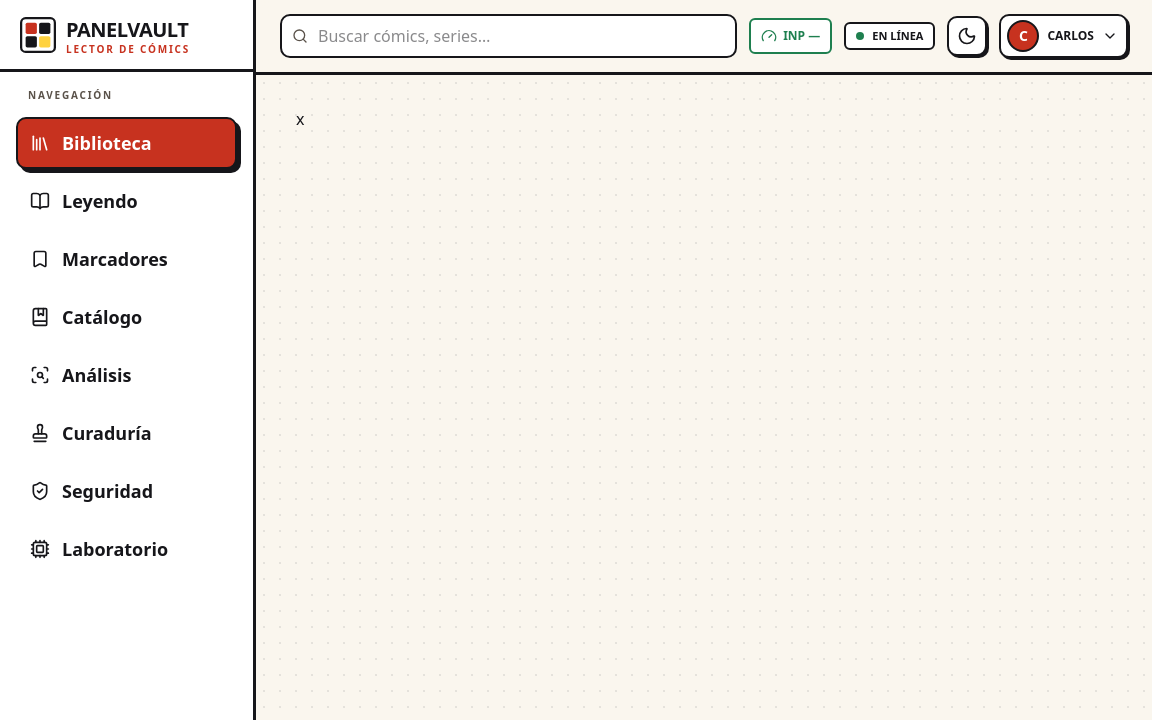
AppShell › muestra el menu del usuario con su rol
The width and height of the screenshot is (1152, 720).
Click the button "C Carlos". click: (1064, 36)
box: x1=999 y1=14 x2=1128 y2=58
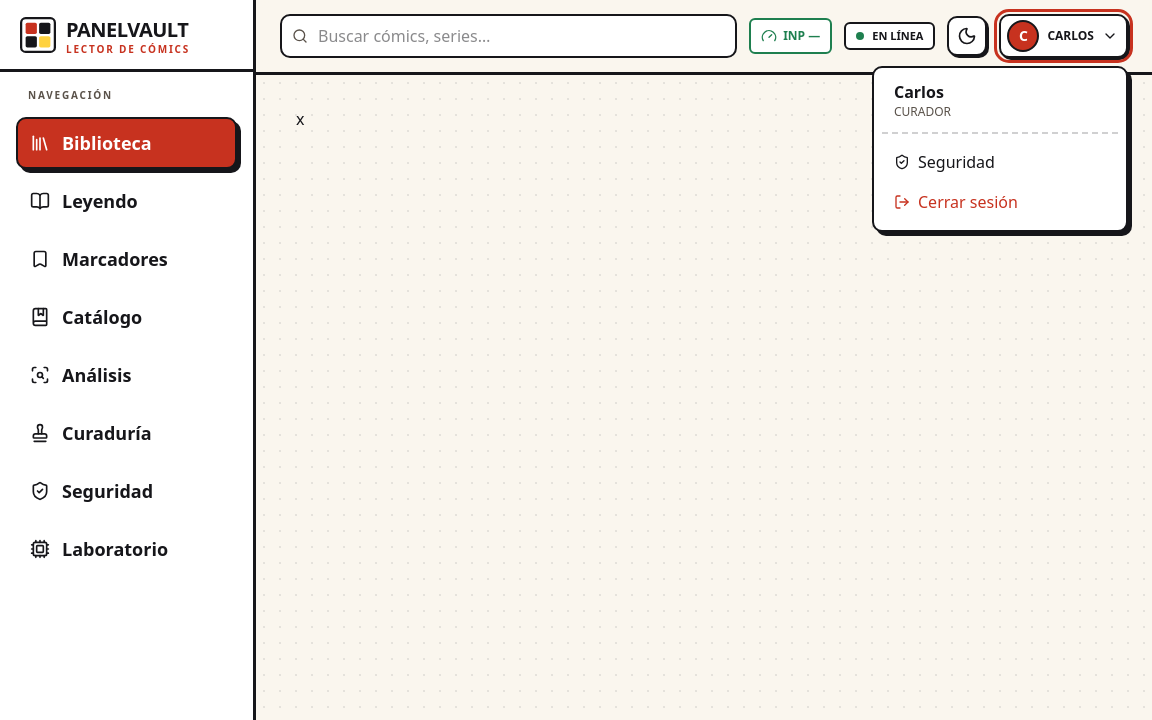
Expected: the text "Curador" is shown, x1=894 y1=103 x2=951 y2=120
Expected: the menu item "Cerrar sesión" is shown, x1=882 y1=182 x2=1118 y2=222
